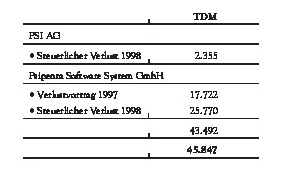table: (0, 0, 281, 174)
